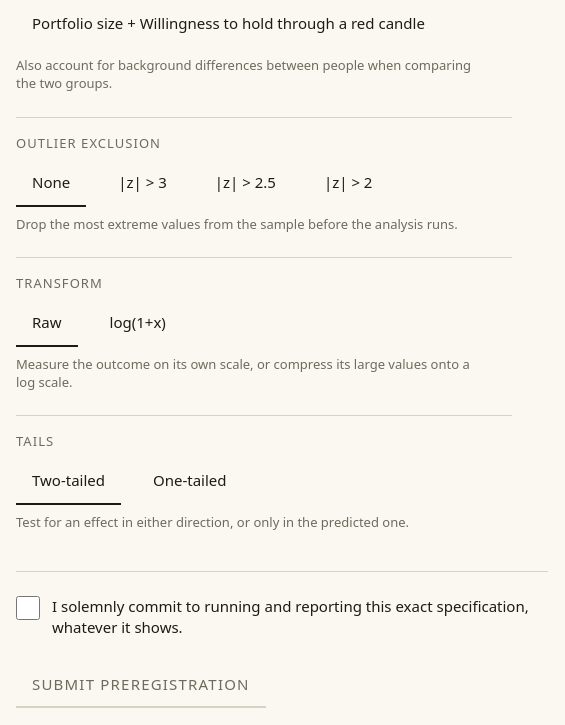
Test case: Prereg screen — the preregistration form › after submitting, the controls, checkbox and submit button are all disabled, and the "locked" status shows
(page scrolled)
Click the checkbox at (28, 608), box [16, 596, 40, 620]
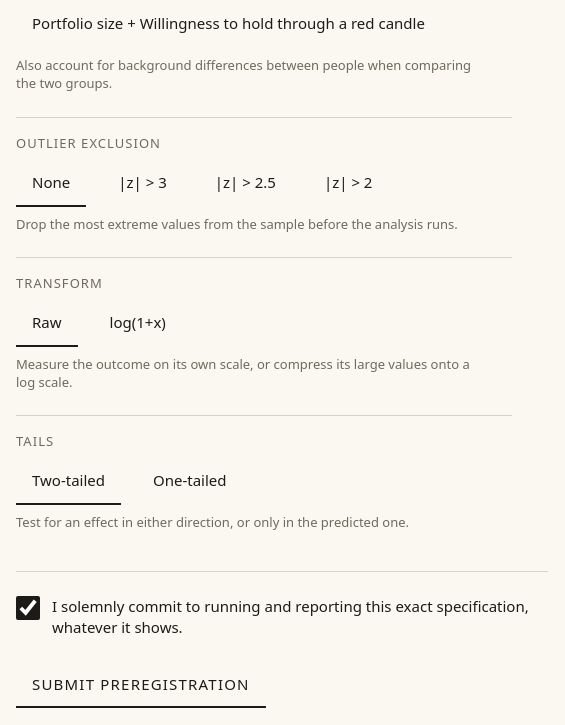
Click the button "Submit preregistration" at (141, 685), box [16, 662, 266, 708]
(page scrolled)
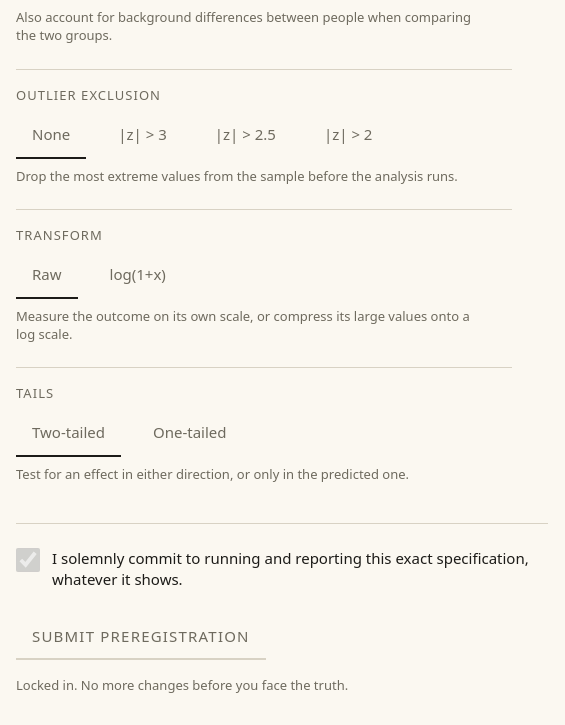
Result: the checkbox is disabled at [16, 548, 40, 572]
Result: the button "Submit preregistration" is disabled at [16, 614, 266, 660]
Result: the radio button labelled "None" is disabled at [16, 112, 86, 159]
